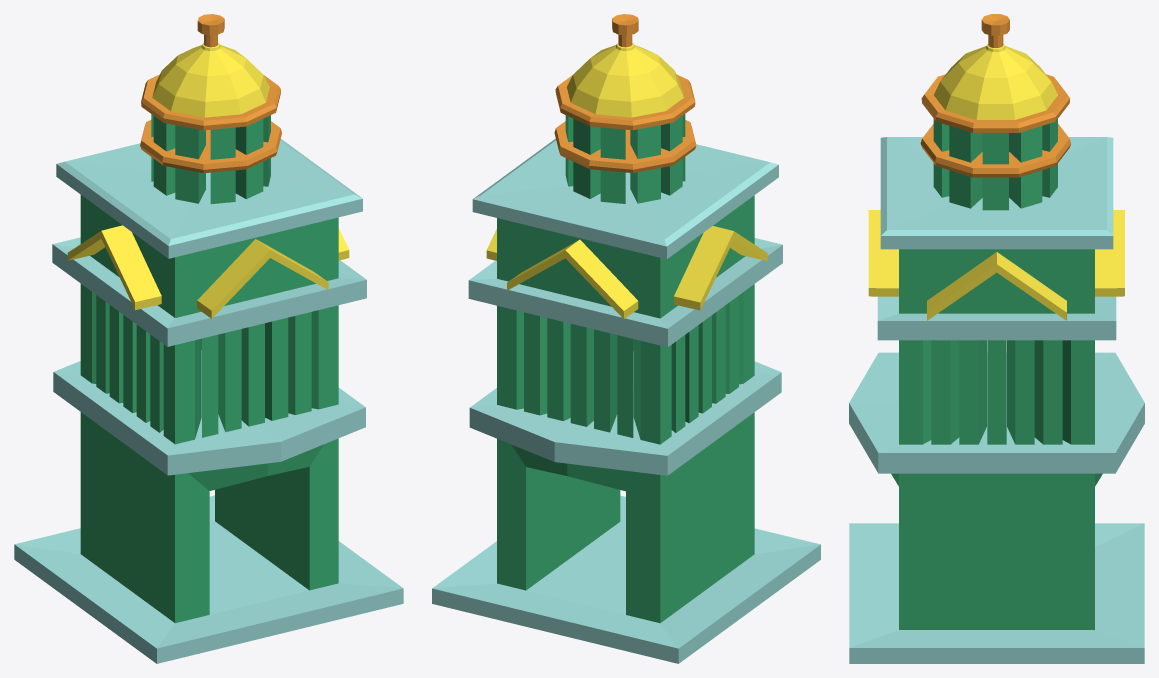
File: house10.fbx
The picture shows the model from 3 angles, left to right: view 1: azimuth 30°, elevation 25°; view 2: azimuth 150°, elevation 25°; view 3: azimuth 270°, elevation 25°; orthographic projection. The views are drawn at different scales.
Parts seen in each view (by area): view 1: mid_build .005_LOD0; view 2: mid_build .005_LOD0; view 3: mid_build .005_LOD0.
Part boxes in pixels (x1,y1,x2,y2): mid_build .005_LOD0: (14,14,403,663); mid_build .005_LOD0: (432,14,820,663); mid_build .005_LOD0: (849,14,1144,663).
Size of what is drawn, in the model's own units: 2186 by 4758 by 2189.
